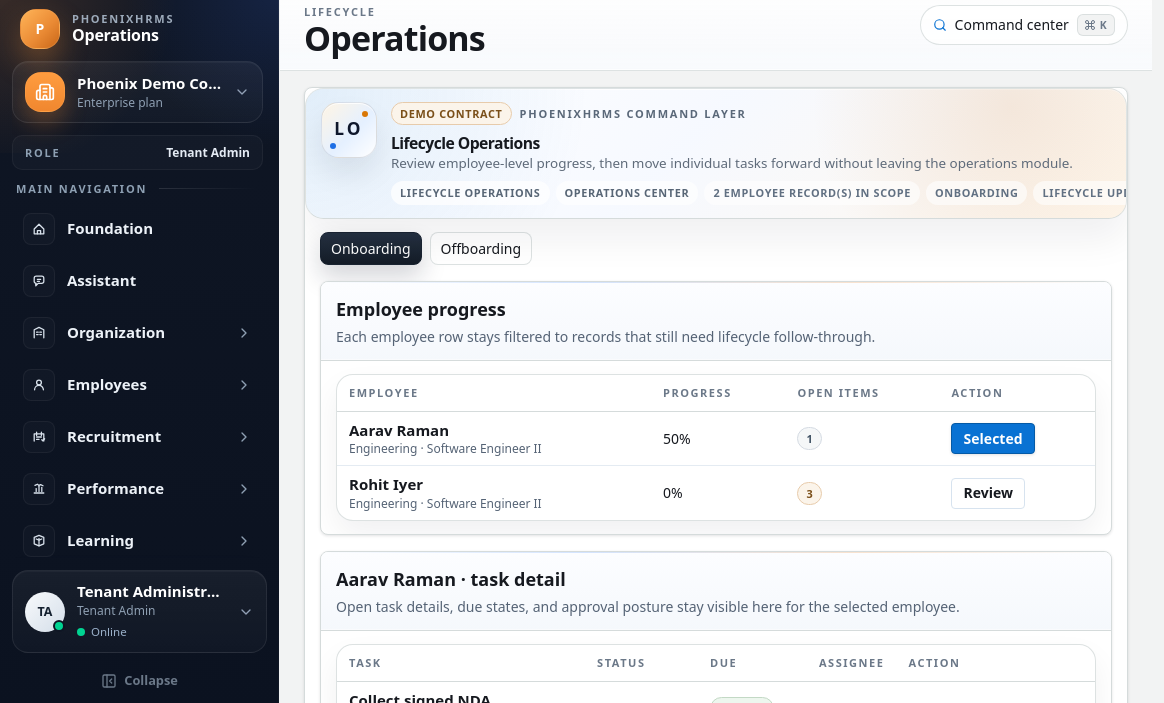
Test: OperationsLifecyclePage › switches to offboarding and completes a selected lifecycle task in demo mode
The width and height of the screenshot is (1164, 703).
Expected: the heading "Lifecycle Operations" is shown, x1=391 y1=132 x2=540 y2=154
Click the button "Offboarding" at [481, 248], box x1=430 y1=232 x2=532 y2=265
(page scrolled)
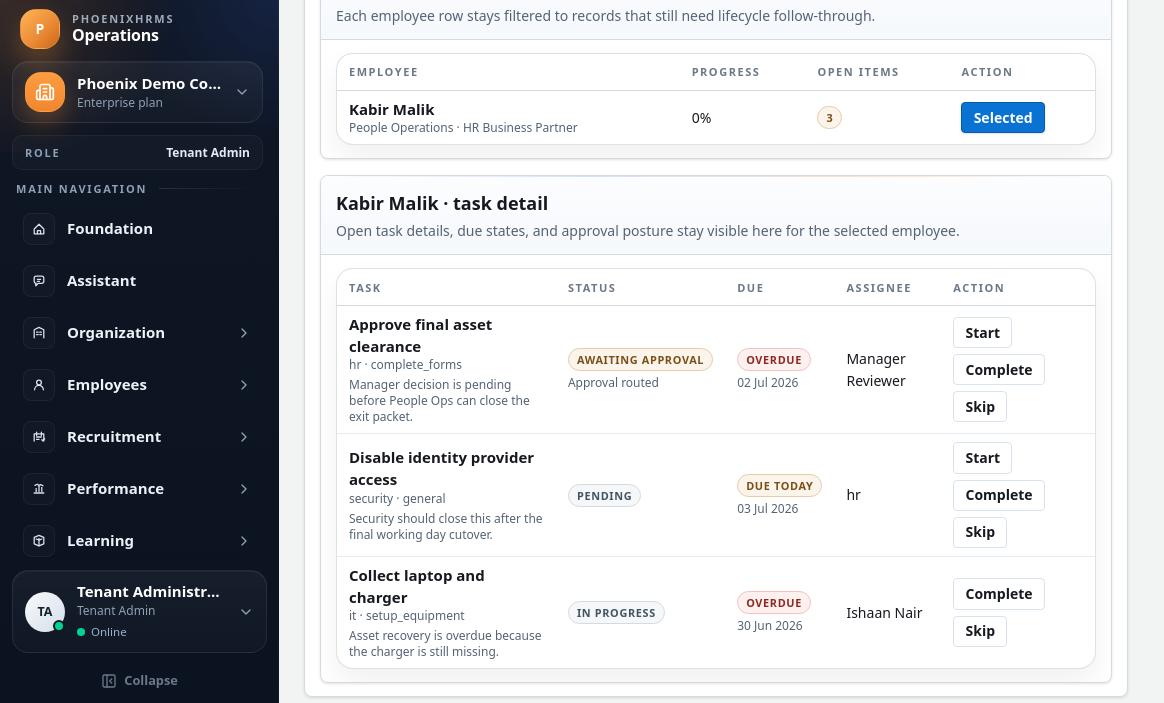
Now the heading "Kabir Malik · task detail" is shown, box x1=336 y1=192 x2=548 y2=216
Now the text "Collect laptop and charger" is shown, box x1=349 y1=565 x2=485 y2=607
Click the button "Complete" in the row of "Collect laptop and charger" at [999, 594], box x1=953 y1=578 x2=1045 y2=610
(page scrolled)
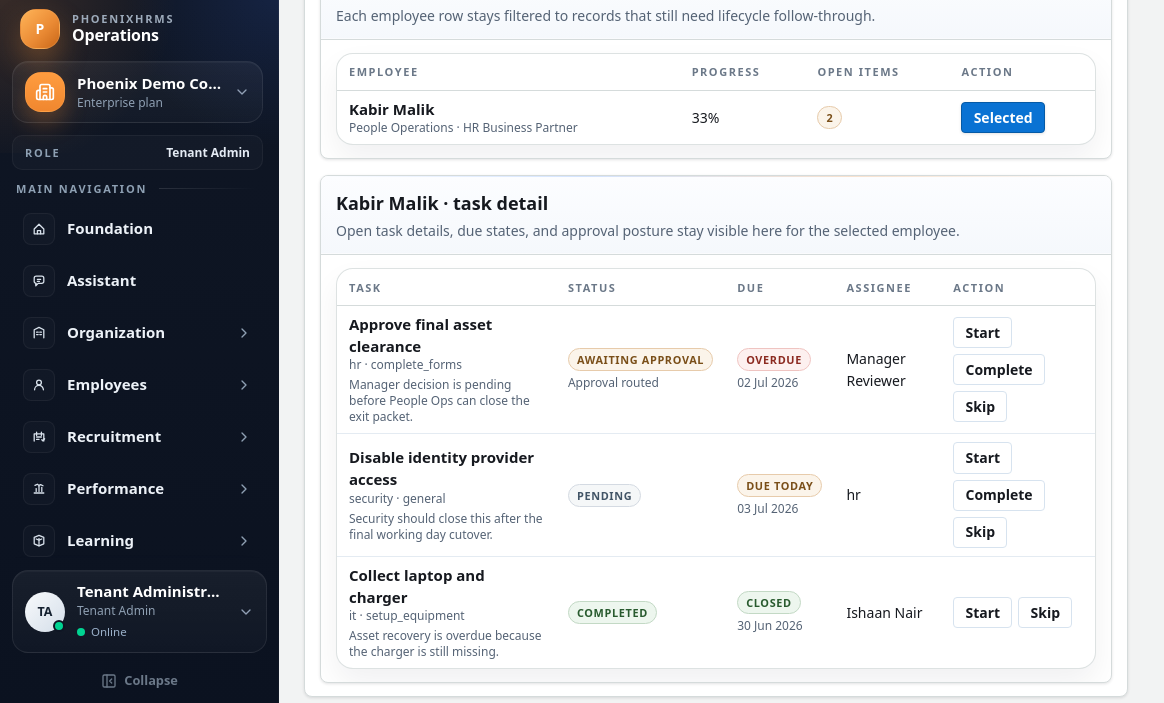
Now the text "completed" is shown, box x1=568 y1=601 x2=657 y2=624
